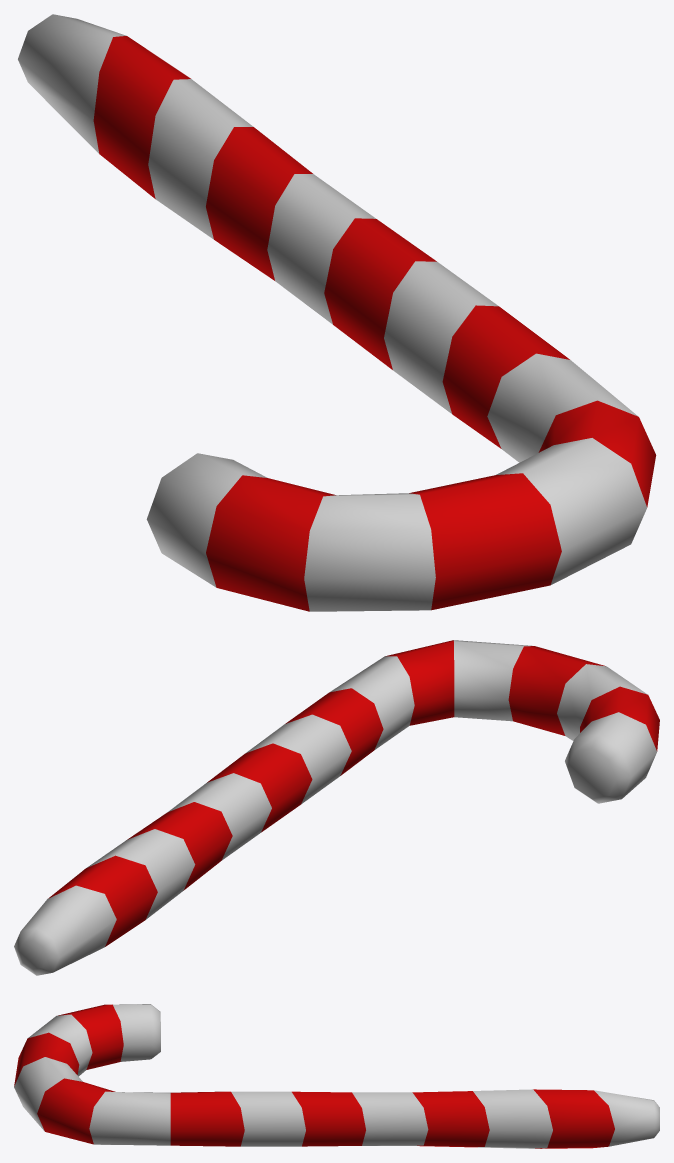
Rendered from candycane_2022.obj.
The picture shows the model from 3 angles, top to bottom: view 1: azimuth 30°, elevation 25°; view 2: azimuth 150°, elevation 25°; view 3: azimuth 270°, elevation 25°; orthographic projection. The views are drawn at different scales.
Parts seen in each view (by area): view 1: 1, 0; view 2: 1, 0; view 3: 1, 0.
Part boxes in pixels (<box>): 1: <box>18,14,646,611</box>; 0: <box>93,36,656,611</box>; 1: <box>14,640,656,975</box>; 0: <box>48,640,659,946</box>; 1: <box>14,1004,659,1148</box>; 0: <box>14,1004,614,1148</box>.
Size of the model in its own units: 0.2244 by 0.0557 by 0.5479.
